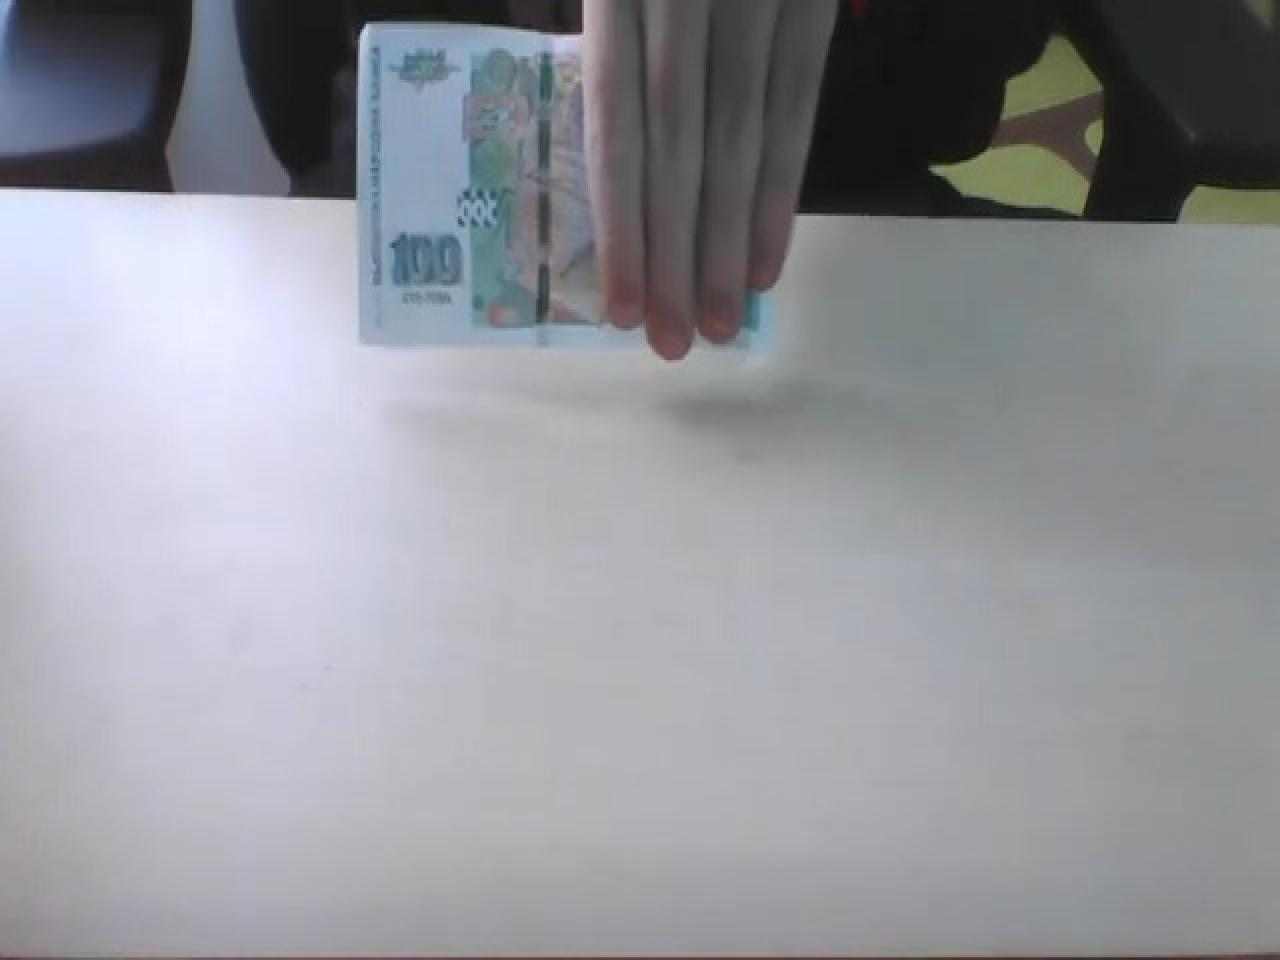100leva: (354, 18, 598, 347), (386, 227, 464, 288)
